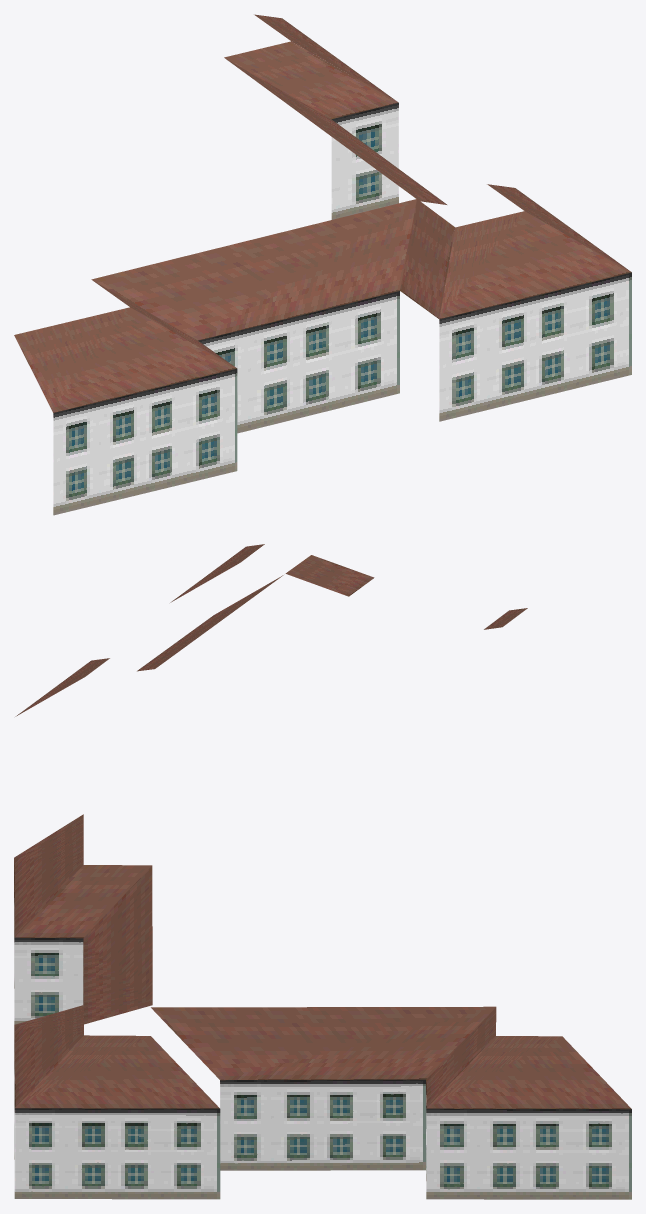
The model's file is aaAApart02.glb.
3 renders of one model, top to bottom at view 1: azimuth 30°, elevation 25°; view 2: azimuth 150°, elevation 25°; view 3: azimuth 270°, elevation 25°, orthographic. The views are drawn at different scales.
Parts seen in each view (by area): view 1: aaAApart02; view 2: aaAApart02; view 3: aaAApart02.
Boxes of the visible parts, box(x1,y1,x2,y2) form: aaAApart02: box(14, 14, 631, 515); aaAApart02: box(15, 544, 527, 716); aaAApart02: box(14, 814, 631, 1199).
Size of the model in its own units: 7416 by 1882 by 7751.
1 material, 1 textured.
